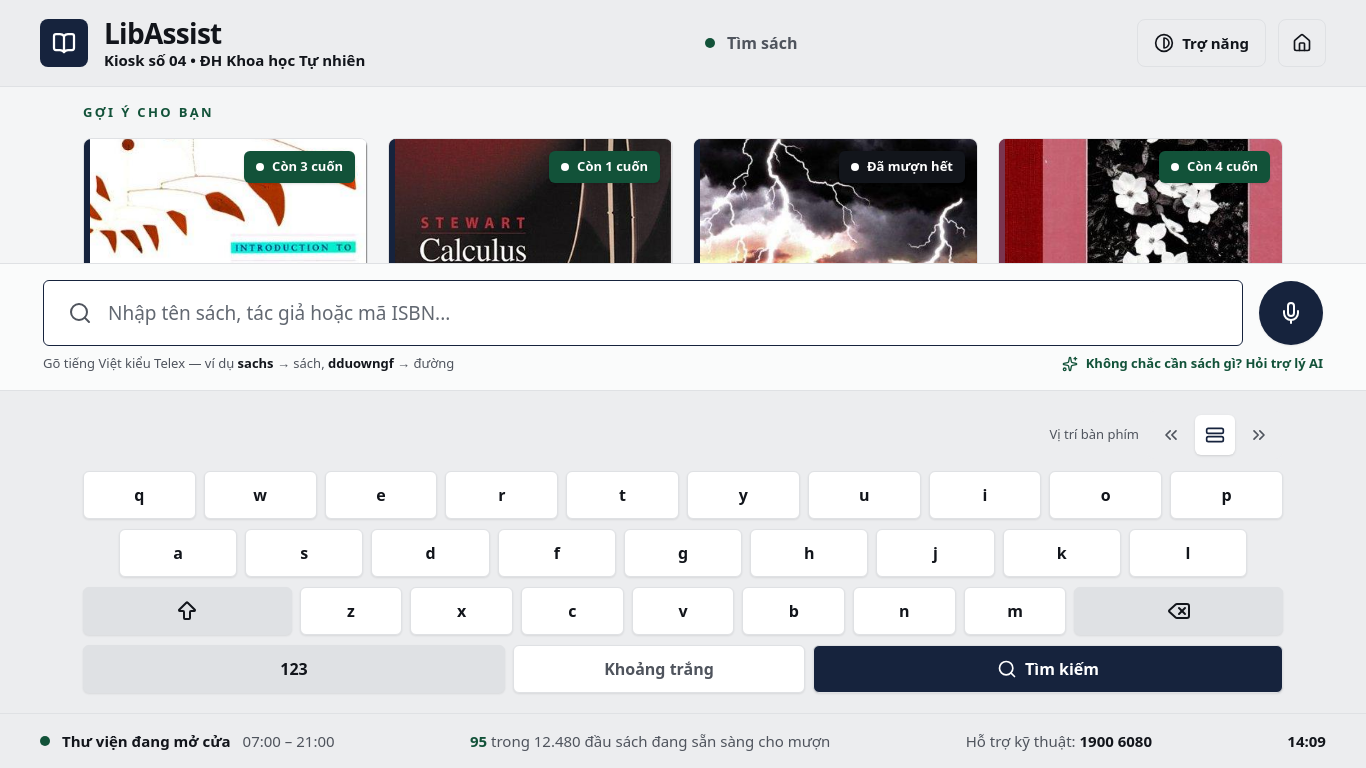
Test: Voice search — when the browser supports it › listens in place when the mic is tapped on the search screen
What coordinates should you click on to do the following:
click the button named "Tìm bằng giọng nói"
I would click on:
 (1291, 313)
Its box is [1259,281,1323,345].
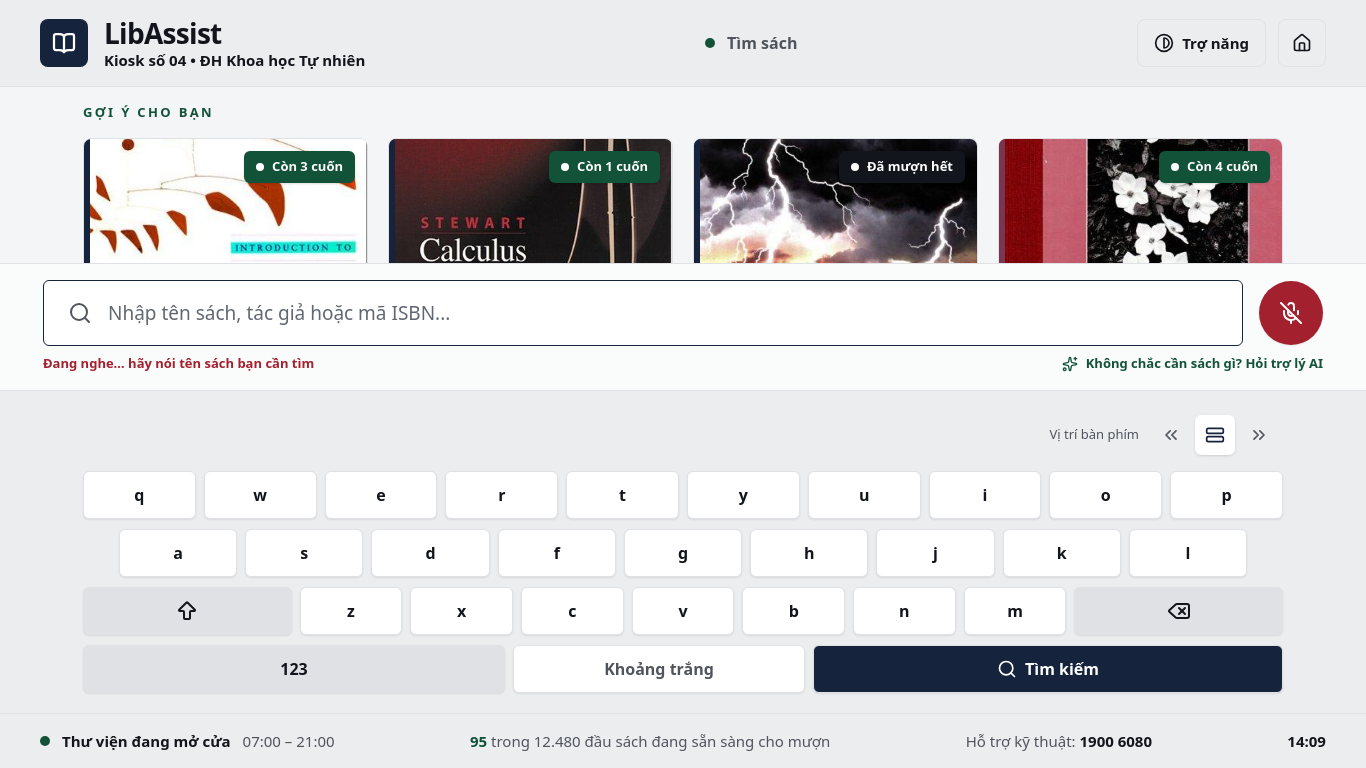
expect the text "Đang nghe… hãy nói tên sách bạn cần tìm" is shown: met, box [43,354,314,374]
